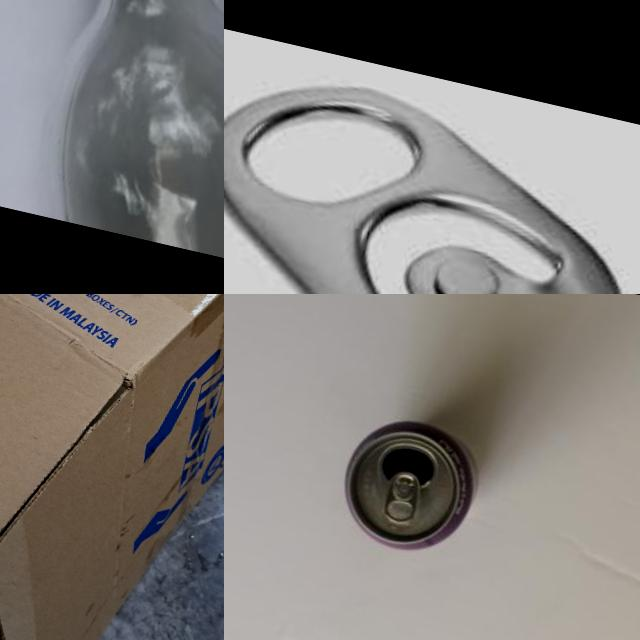aba de lata: (224, 49, 640, 294), (378, 468, 427, 529)
garrafa de vidro: (0, 0, 224, 279)
lata: (330, 406, 490, 564)
papelão: (0, 294, 224, 640)
